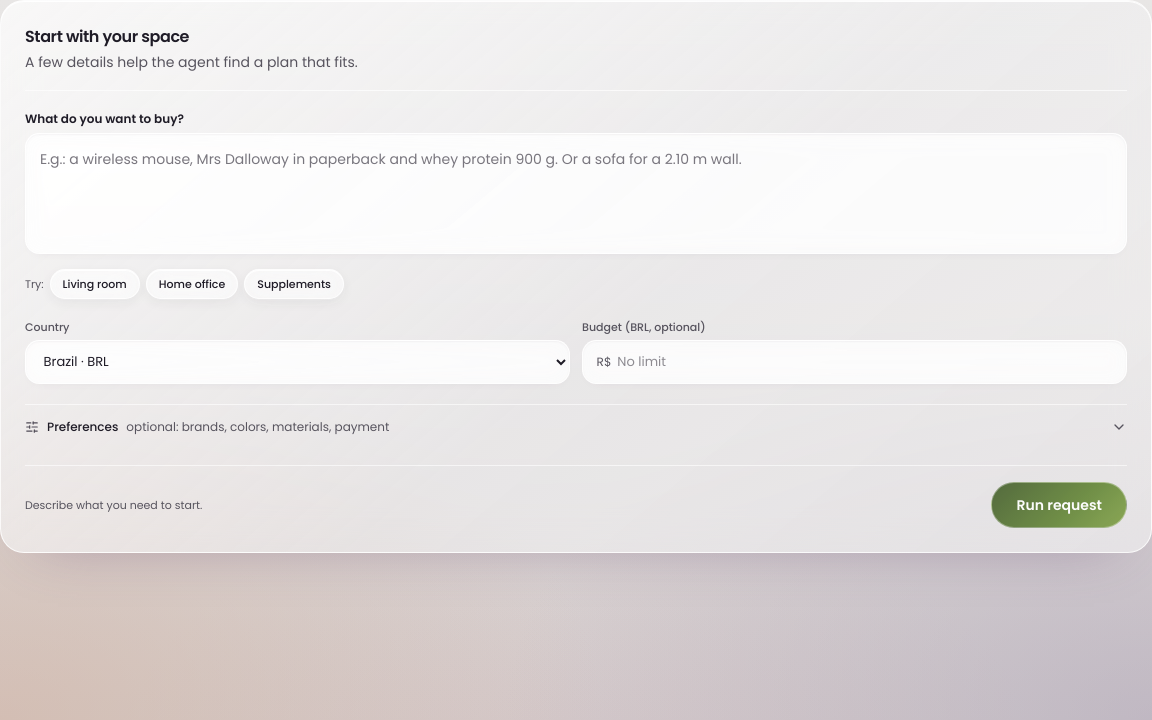
Test: RequestComposer › keeps the preferences folded until asked, then counts the ones set
The image size is (1152, 720).
Click the button "Preferences optional: brands, colors, materials, payment". click: x=83, y=426
box: [25,409,1127,445]
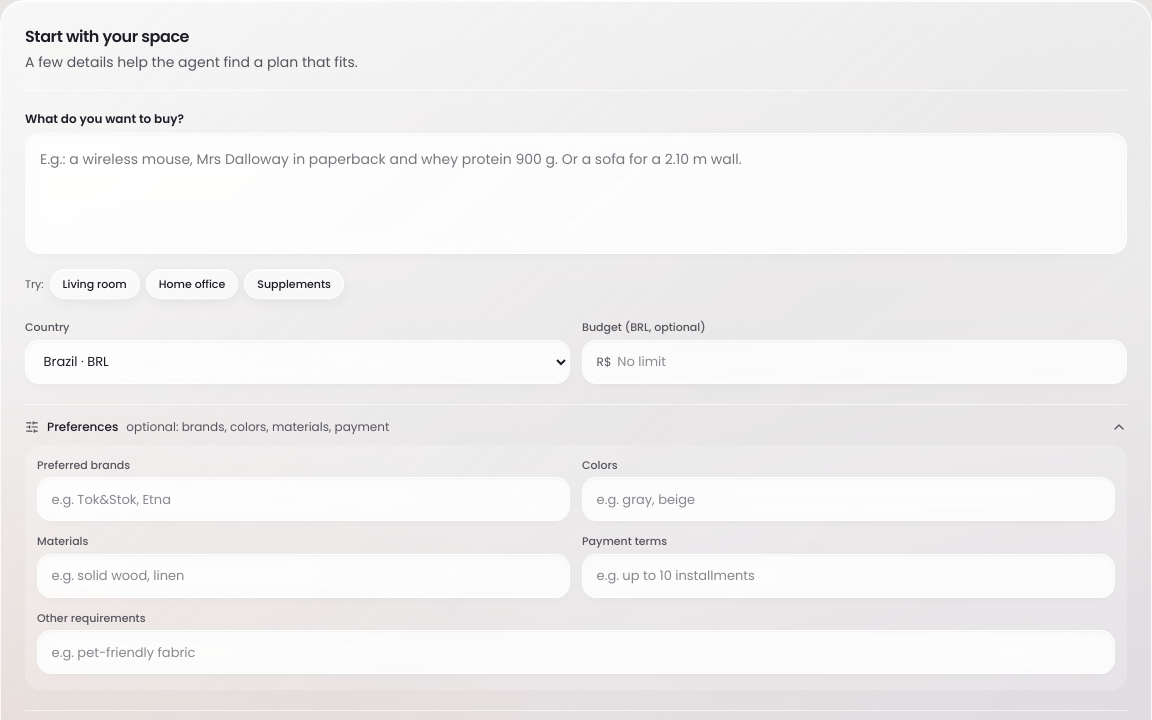
Type "gray" into the field labelled "Colors". click: x=848, y=499
box: [582,477,1115,521]
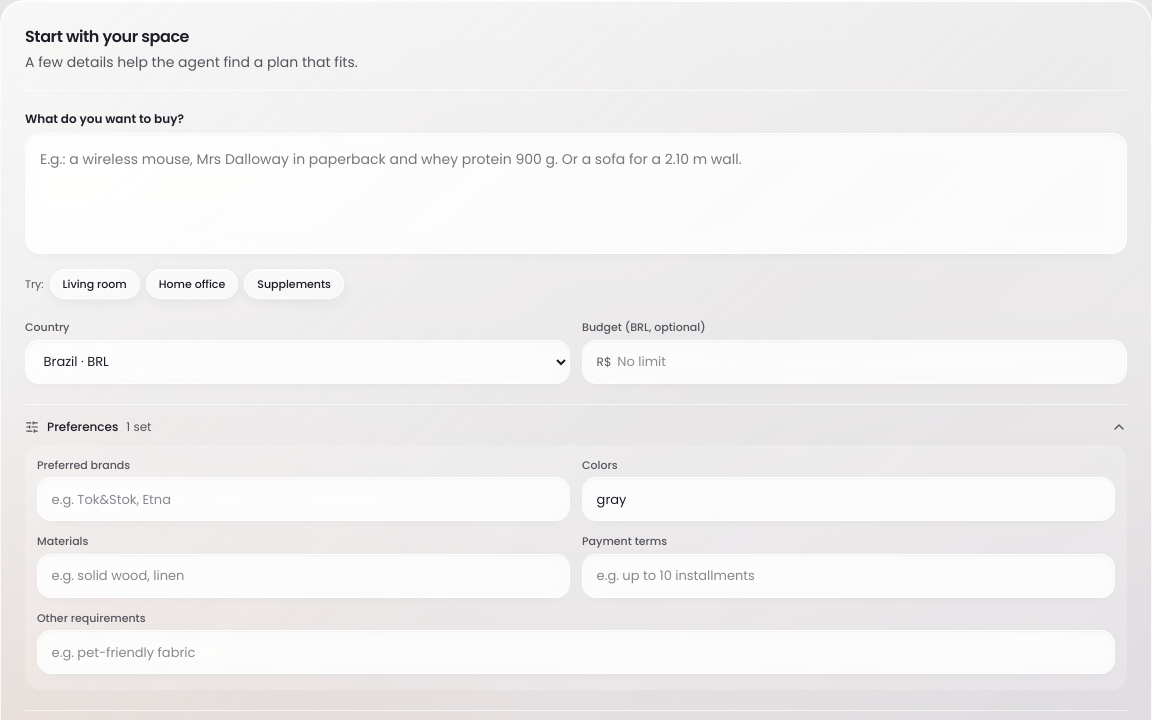
Result: the button "Preferences 1 set" is expanded at [25,409,1127,445]
Result: the text "1 set" is shown at [126,419,152,435]
